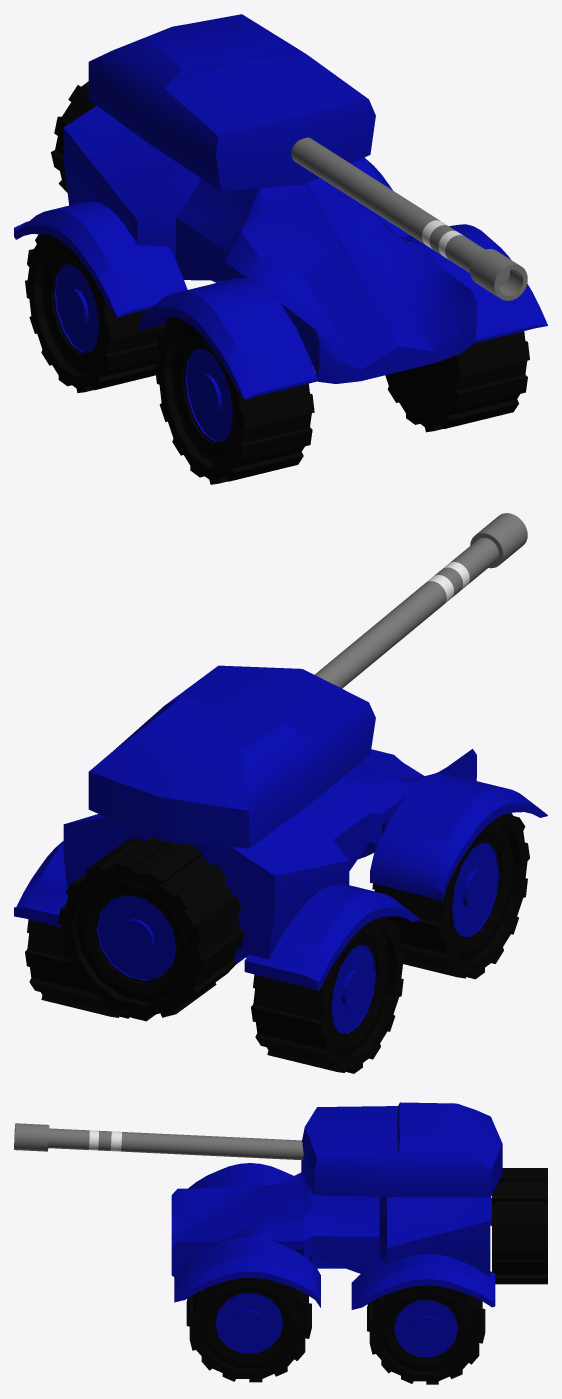
Rendered from tank1v2.fbx.
The picture shows the model from 3 angles, top to bottom: view 1: azimuth 30°, elevation 25°; view 2: azimuth 150°, elevation 25°; view 3: azimuth 270°, elevation 25°; orthographic projection. The views are drawn at different scales.
Parts seen in each view (by area): view 1: body, weapon, front_right wheel, back_right wheel, front_left wheel, wheel5; view 2: weapon, body, wheel5, back_right wheel, front_right wheel, back_left wheel; view 3: body, weapon, front_left wheel, back_left wheel, wheel5.
Boxes of the visible parts, left/top/right/bottom form: body: left=14, top=105, right=547, bottom=399; weapon: left=88, top=14, right=527, bottom=300; front_right wheel: left=155, top=316, right=314, bottom=484; back_right wheel: left=25, top=234, right=167, bottom=393; front_left wheel: left=385, top=331, right=529, bottom=432; wheel5: left=51, top=81, right=96, bottom=192; weapon: left=88, top=513, right=527, bottom=848; body: left=14, top=749, right=547, bottom=990; wheel5: left=57, top=836, right=244, bottom=1021; back_right wheel: left=251, top=916, right=405, bottom=1073; front_right wheel: left=372, top=812, right=529, bottom=979; back_left wheel: left=25, top=919, right=130, bottom=1018; body: left=171, top=1163, right=495, bottom=1309; weapon: left=14, top=1102, right=502, bottom=1197; front_left wheel: left=186, top=1277, right=311, bottom=1382; back_left wheel: left=367, top=1285, right=485, bottom=1384; wheel5: left=492, top=1168, right=547, bottom=1284.
Size of the model in its own units: 1001 by 971 by 2194.
